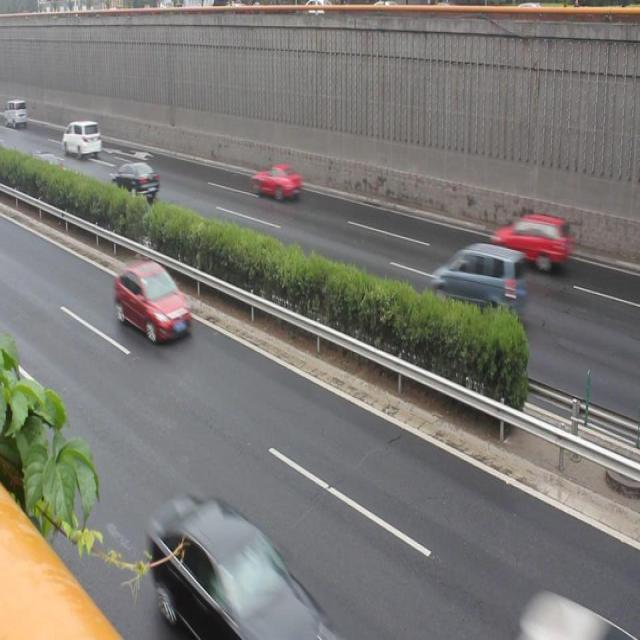car: (144, 492, 333, 640), (432, 242, 526, 326), (114, 258, 194, 348), (490, 213, 570, 268), (250, 162, 299, 208), (113, 158, 161, 202)
